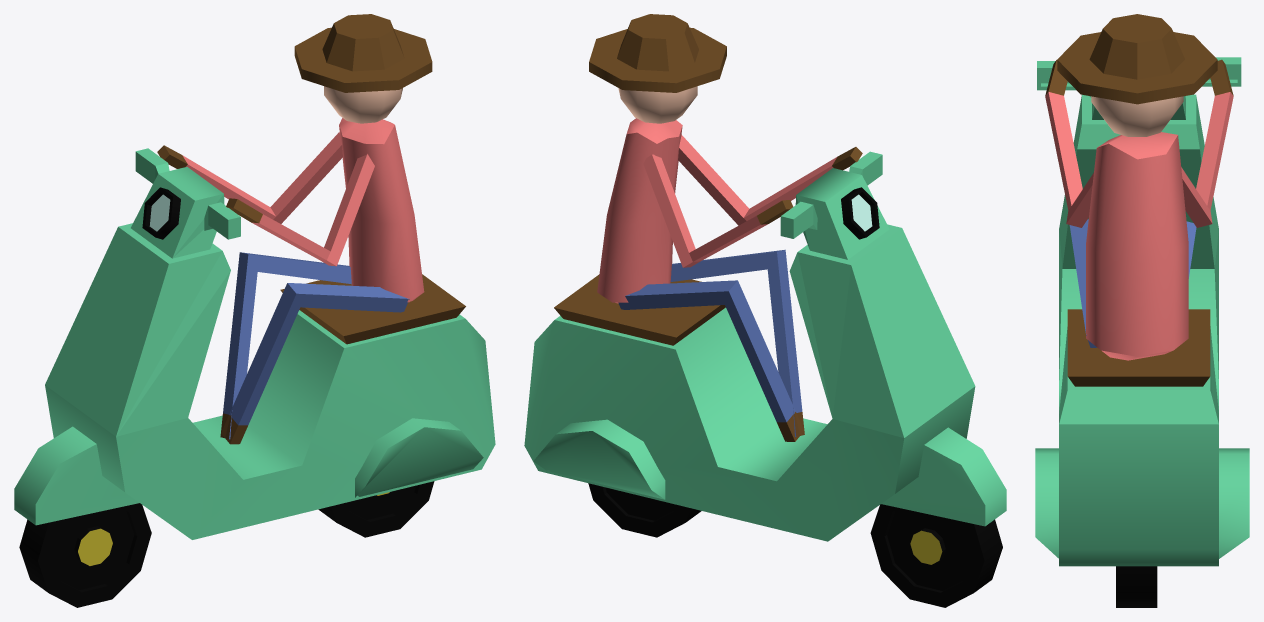
Rendered from Motor.fbx.
The picture shows the model from 3 angles, left to right: view 1: azimuth 30°, elevation 25°; view 2: azimuth 150°, elevation 25°; view 3: azimuth 270°, elevation 25°; orthographic projection. The views are drawn at different scales.
Visible parts, largest first — view 1: Box072, Cylinder085, Cylinder074, Cylinder086, Cylinder076; view 2: Box072, Cylinder085, Cylinder074, Cylinder086, Cylinder076; view 3: Box072, Cylinder085, Cylinder086, Cylinder074.
Part boxes in pixels (x1,y1,x2,y2): Box072: (14,148,495,539); Cylinder085: (157,86,424,444); Cylinder074: (19,481,434,607); Cylinder086: (294,14,432,92); Cylinder076: (142,187,180,239); Box072: (524,151,1006,541); Cylinder085: (597,86,862,441); Cylinder074: (588,483,1002,607); Cylinder086: (589,14,726,92); Cylinder076: (841,187,879,239); Box072: (1035,57,1249,566); Cylinder085: (1045,59,1233,360); Cylinder086: (1057,14,1217,104); Cylinder074: (1116,566,1157,607).
Size of the model in its own units: 105 by 116 by 39.94.
Materials: 8 (8 with a texture image).
